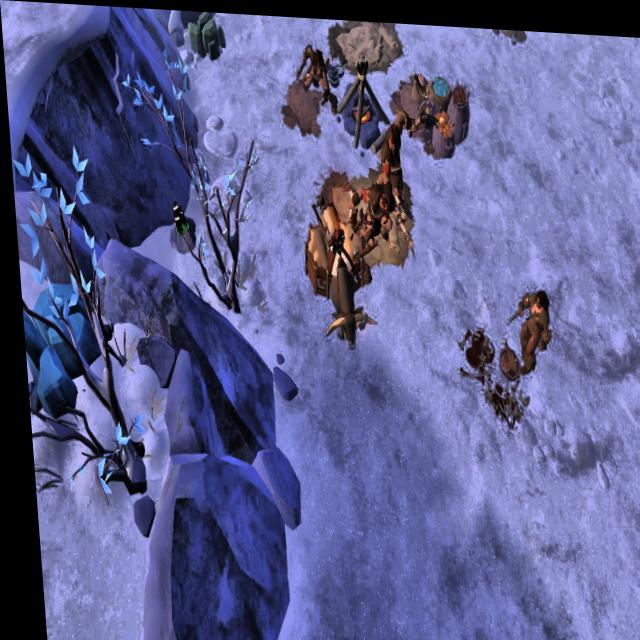enemy_factionKeeper: (505, 274, 550, 374), (375, 103, 414, 205), (296, 37, 332, 113)
ore_t3: (166, 200, 187, 239)
rock_t3: (176, 8, 231, 64)
